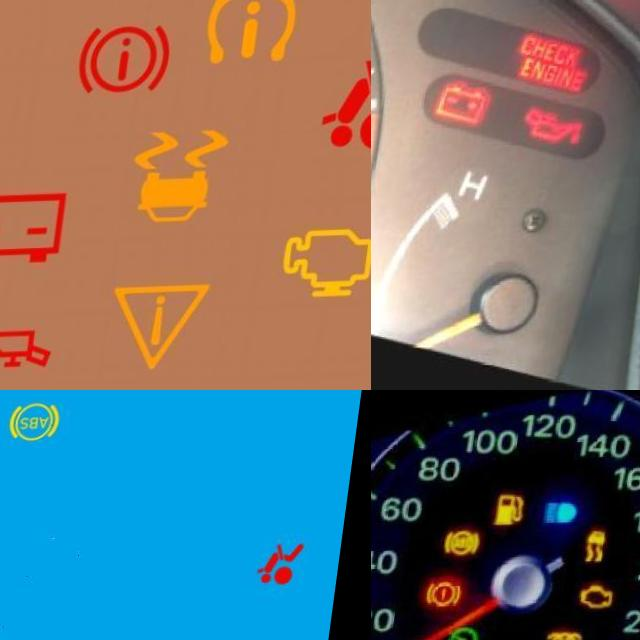Low fuel level: (494, 489, 535, 530)
